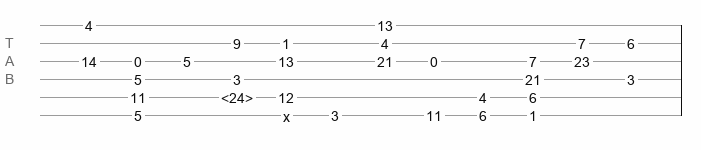0: (134, 54, 142, 64), (430, 54, 438, 64)
1: (282, 36, 290, 46), (529, 108, 537, 118)
11: (130, 90, 146, 100), (426, 108, 442, 118)
12: (278, 90, 294, 100)
13: (278, 54, 294, 64), (377, 18, 393, 28)
14: (81, 54, 97, 64)
21: (377, 54, 393, 64), (525, 72, 541, 82)
23: (574, 54, 590, 64)
3: (233, 72, 241, 82), (331, 108, 339, 118), (627, 72, 635, 82)
4: (85, 18, 93, 28), (381, 36, 389, 46), (479, 90, 487, 100)
5: (134, 108, 142, 118), (134, 72, 142, 82), (183, 54, 191, 64)
6: (479, 108, 487, 118), (529, 90, 537, 100), (627, 36, 635, 46)
7: (529, 54, 537, 64), (578, 36, 586, 46)
9: (233, 36, 241, 46)
harmonic: (221, 90, 253, 100)
x: (283, 109, 290, 117)
